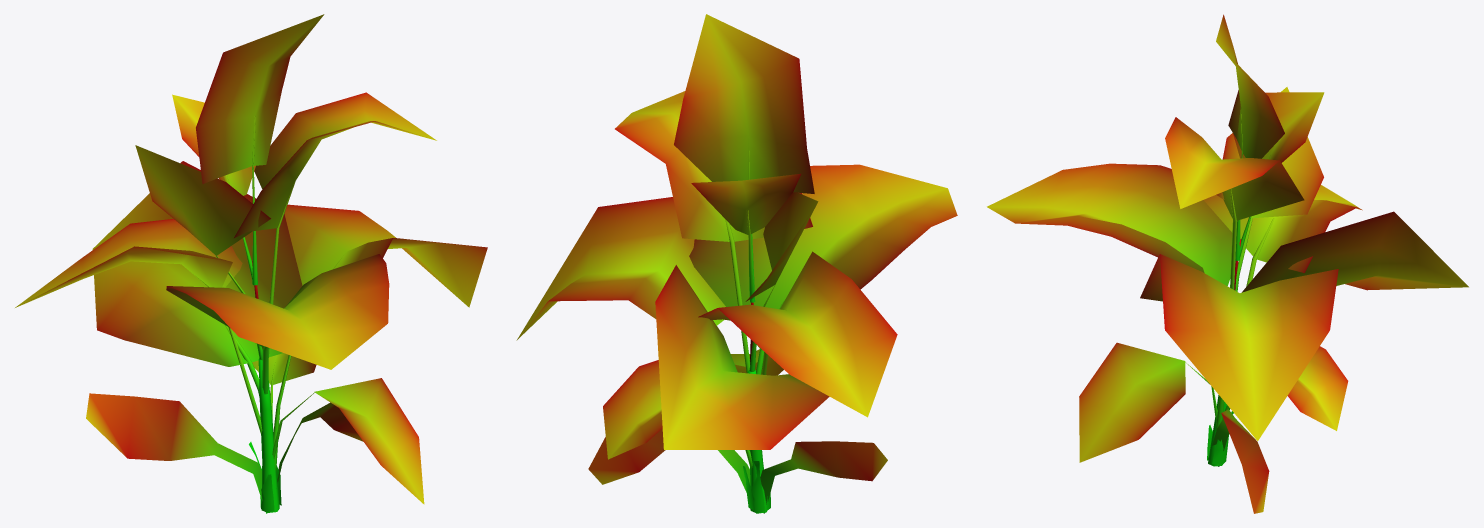
File: Cat Palm_LOD2_Var1_tjejafeia.fbx
3 renders of one model, left to right at view 1: azimuth 30°, elevation 25°; view 2: azimuth 150°, elevation 25°; view 3: azimuth 270°, elevation 25°, orthographic. The views are drawn at different scales.
Visible parts, largest first — view 1: _6be7_Var1_LOD2; view 2: _6be7_Var1_LOD2; view 3: _6be7_Var1_LOD2.
Part boxes in pixels (x1,y1,x2,y2): _6be7_Var1_LOD2: [15, 14, 487, 513]; _6be7_Var1_LOD2: [516, 14, 957, 513]; _6be7_Var1_LOD2: [987, 14, 1468, 513].
Size of the model in its own units: 139 by 159 by 155.
